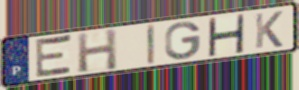E: (34, 33, 75, 80)
G: (163, 20, 203, 62)
H: (75, 27, 120, 74), (206, 13, 247, 57)
I: (145, 23, 157, 67)
K: (253, 10, 284, 50)
